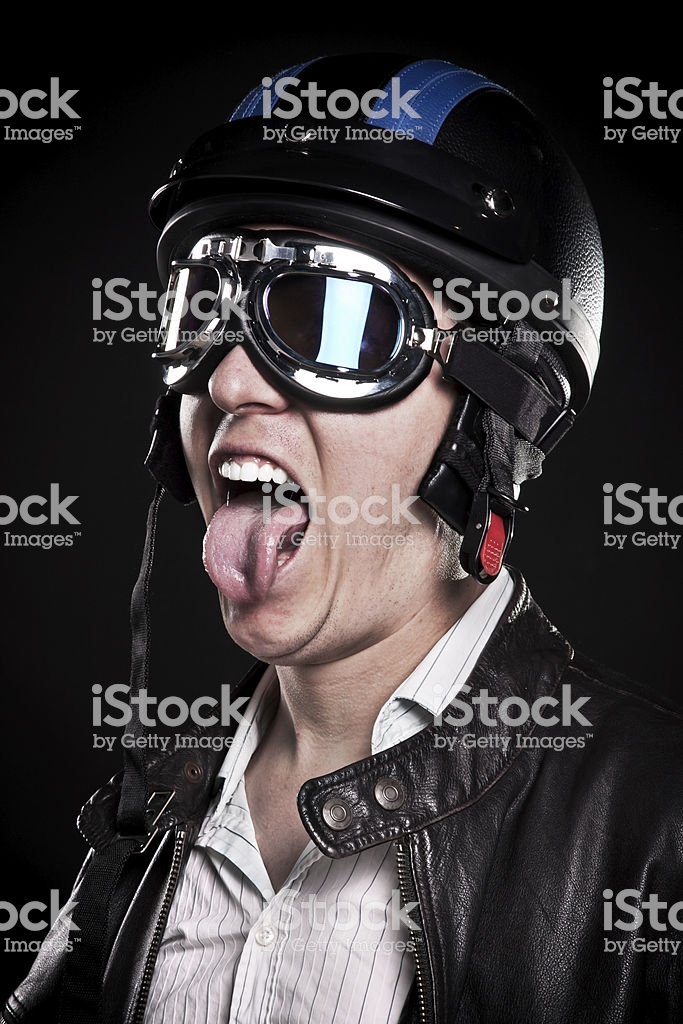with_helmet: (150, 43, 613, 463)
